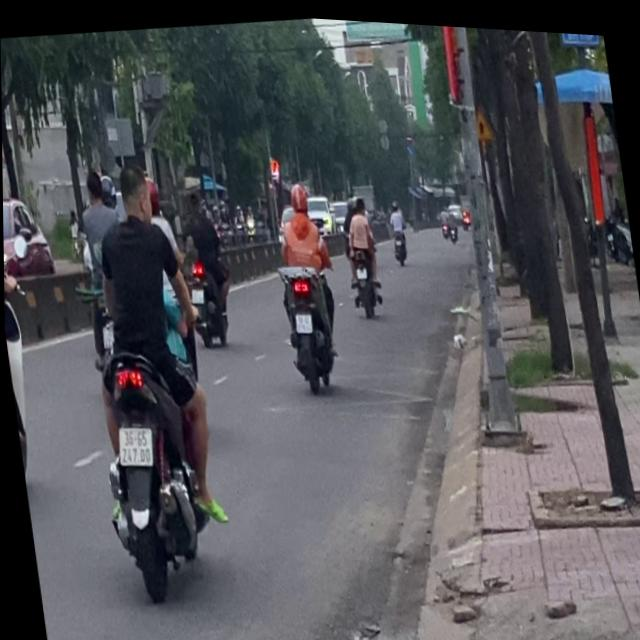helmet: (96, 171, 117, 210), (284, 176, 307, 211)
licenseplate: (55, 146, 235, 606), (261, 173, 344, 391)
motorcyclist: (111, 160, 151, 221), (80, 165, 102, 202)
nohelmet: (113, 421, 152, 466), (292, 306, 311, 328)
